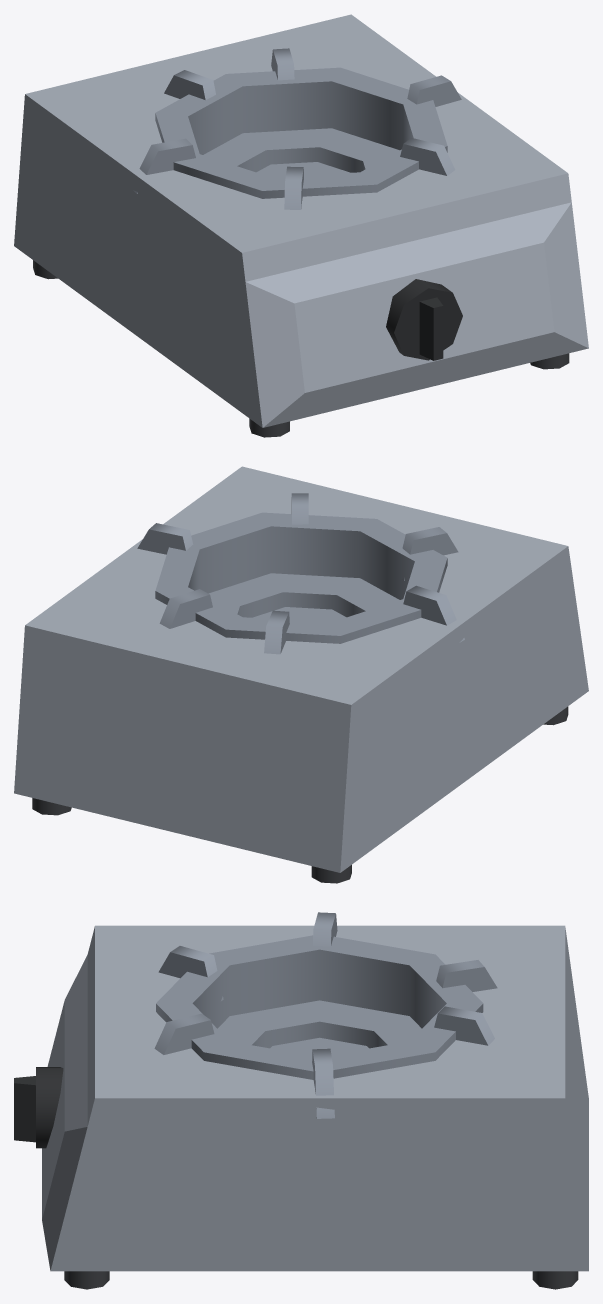
The model's file is Stovetop.glb.
3 renders of one model, top to bottom at view 1: azimuth 30°, elevation 25°; view 2: azimuth 150°, elevation 25°; view 3: azimuth 270°, elevation 25°, orthographic. The views are drawn at different scales.
Parts seen in each view (by area): view 1: appliance_stove_Cube.261, appliance_stove_knob_Cube.419; view 2: appliance_stove_Cube.261; view 3: appliance_stove_Cube.261, appliance_stove_knob_Cube.419.
Boxes of the visible parts, bbox=[...] form: appliance_stove_Cube.261: bbox=[14, 14, 588, 437]; appliance_stove_knob_Cube.419: bbox=[386, 279, 462, 360]; appliance_stove_Cube.261: bbox=[14, 466, 588, 883]; appliance_stove_Cube.261: bbox=[42, 912, 588, 1289]; appliance_stove_knob_Cube.419: bbox=[14, 1067, 63, 1148].
Bounding box in the file's own units: 6.68 × 3.86 × 9.26.
Materials: 1 (1 with a texture image).
